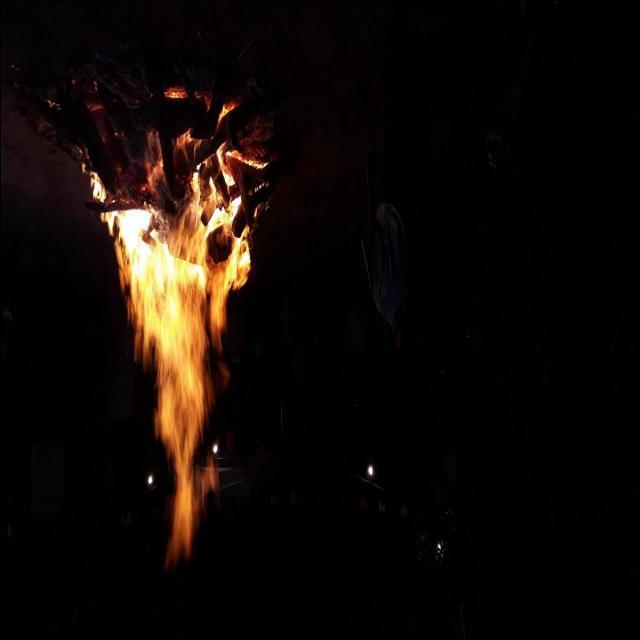Fire: (80, 131, 269, 570), (215, 101, 238, 122), (161, 89, 187, 102)
